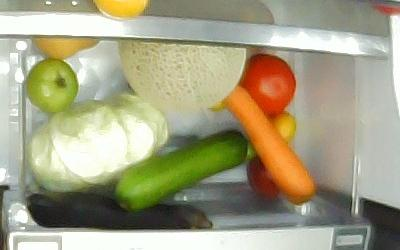cabbage: (26, 94, 168, 195)
carrot: (222, 83, 315, 205)
eggplant: (28, 192, 214, 232)
melon: (115, 40, 247, 111)
pear: (33, 36, 101, 59)
prune: (247, 154, 278, 199)
tangerine: (269, 111, 296, 145)
tomato: (237, 55, 295, 113), (26, 57, 78, 111)
zucchini: (115, 129, 259, 210)
